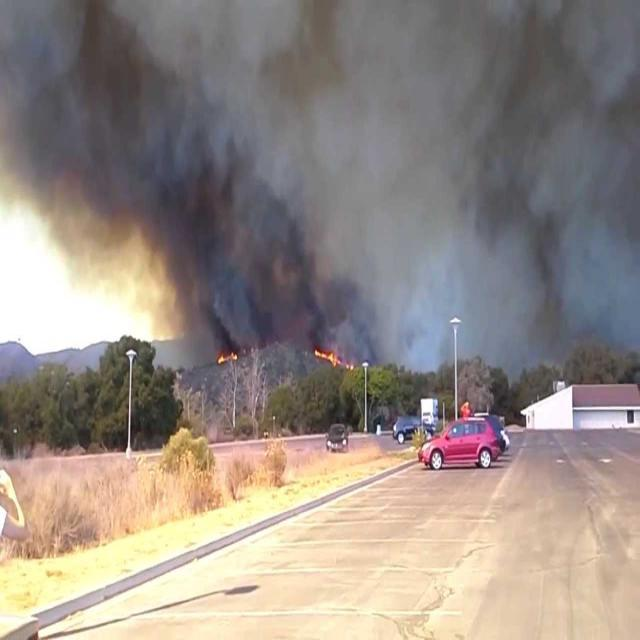Fire: (0, 32, 216, 368), (308, 341, 358, 376), (216, 350, 247, 368)
Smoke: (0, 0, 640, 404)
